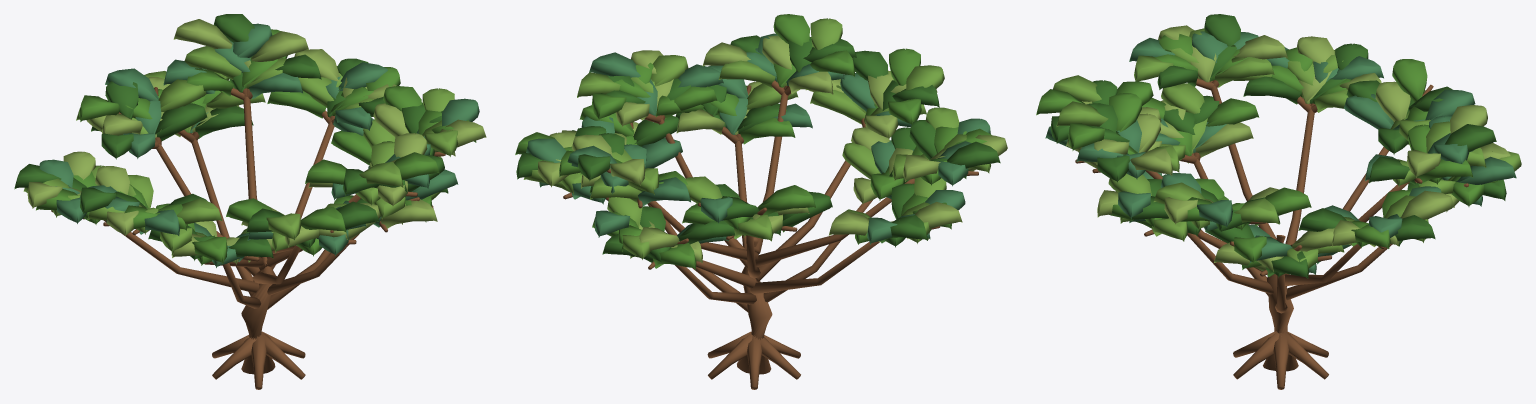
The model's file is hero-boxwood.glb.
3 renders of one model, left to right at view 1: azimuth 30°, elevation 25°; view 2: azimuth 150°, elevation 25°; view 3: azimuth 270°, elevation 25°, orthographic. The views are drawn at different scales.
Parts seen in each view (by area): view 1: Tapered fluted trunk.006, Primary branch.082, Folded boxwood leaf.124, Folded boxwood leaf.167, Folded boxwood leaf.170, Folded boxwood leaf.165, Folded boxwood leaf.126, Folded boxwood leaf.044, Folded boxwood leaf.063, Folded boxwood leaf.127, Primary branch.080, Folded boxwood leaf.081 (+68 smaller); view 2: Tapered fluted trunk.006, Primary branch.082, Primary branch.087, Folded boxwood leaf.119, Folded boxwood leaf.097, Primary branch.084, Folded boxwood leaf.159, Folded boxwood leaf.187, Folded boxwood leaf.139, Folded boxwood leaf.177, Folded boxwood leaf.163, Folded boxwood leaf.014 (+80 smaller); view 3: Tapered fluted trunk.006, Folded boxwood leaf.119, Folded boxwood leaf.087, Primary branch.082, Folded boxwood leaf.030, Folded boxwood leaf.113, Folded boxwood leaf.117, Folded boxwood leaf.156, Folded boxwood leaf.047, Folded boxwood leaf.028, Folded boxwood leaf.031, Folded boxwood leaf.065 (+67 smaller).
Part boxes in pixels (x1=…): Tapered fluted trunk.006: x1=241, y1=257, x2=275, y2=374; Primary branch.082: x1=104, y1=220, x2=259, y2=293; Folded boxwood leaf.124: x1=155, y1=103, x2=207, y2=141; Folded boxwood leaf.167: x1=173, y1=19, x2=232, y2=48; Folded boxwood leaf.170: x1=251, y1=31, x2=308, y2=61; Folded boxwood leaf.165: x1=184, y1=46, x2=241, y2=79; Folded boxwood leaf.126: x1=158, y1=79, x2=206, y2=111; Folded boxwood leaf.044: x1=195, y1=106, x2=253, y2=138; Folded boxwood leaf.063: x1=380, y1=199, x2=437, y2=228; Folded boxwood leaf.127: x1=105, y1=68, x2=158, y2=101; Primary branch.080: x1=191, y1=139, x2=253, y2=296; Folded boxwood leaf.081: x1=267, y1=91, x2=326, y2=118; Tapered fluted trunk.006: x1=737, y1=237, x2=772, y2=374; Primary branch.082: x1=750, y1=241, x2=879, y2=293; Primary branch.087: x1=755, y1=178, x2=914, y2=266; Folded boxwood leaf.119: x1=758, y1=185, x2=815, y2=214; Folded boxwood leaf.097: x1=810, y1=85, x2=866, y2=124; Primary branch.084: x1=755, y1=160, x2=850, y2=282; Folded boxwood leaf.159: x1=947, y1=141, x2=1000, y2=168; Folded boxwood leaf.187: x1=773, y1=14, x2=809, y2=45; Folded boxwood leaf.139: x1=589, y1=52, x2=640, y2=77; Folded boxwood leaf.177: x1=718, y1=60, x2=775, y2=88; Folded boxwood leaf.163: x1=638, y1=177, x2=690, y2=206; Folded boxwood leaf.014: x1=633, y1=115, x2=678, y2=146; Tapered fluted trunk.006: x1=1263, y1=235, x2=1298, y2=371; Folded boxwood leaf.119: x1=1392, y1=59, x2=1427, y2=102; Folded boxwood leaf.087: x1=1401, y1=190, x2=1454, y2=219; Primary branch.082: x1=1285, y1=109, x2=1314, y2=286; Folded boxwood leaf.030: x1=1206, y1=98, x2=1259, y2=126; Folded boxwood leaf.113: x1=1344, y1=94, x2=1393, y2=129; Folded boxwood leaf.117: x1=1375, y1=81, x2=1410, y2=121; Folded boxwood leaf.156: x1=1215, y1=57, x2=1274, y2=87; Folded boxwood leaf.047: x1=1456, y1=156, x2=1516, y2=184; Folded boxwood leaf.028: x1=1195, y1=122, x2=1253, y2=157; Folded boxwood leaf.031: x1=1161, y1=83, x2=1204, y2=113; Folded boxwood leaf.065: x1=1243, y1=76, x2=1300, y2=104.
Size of the model in its own units: 0.2828 by 0.1764 by 0.2832.
